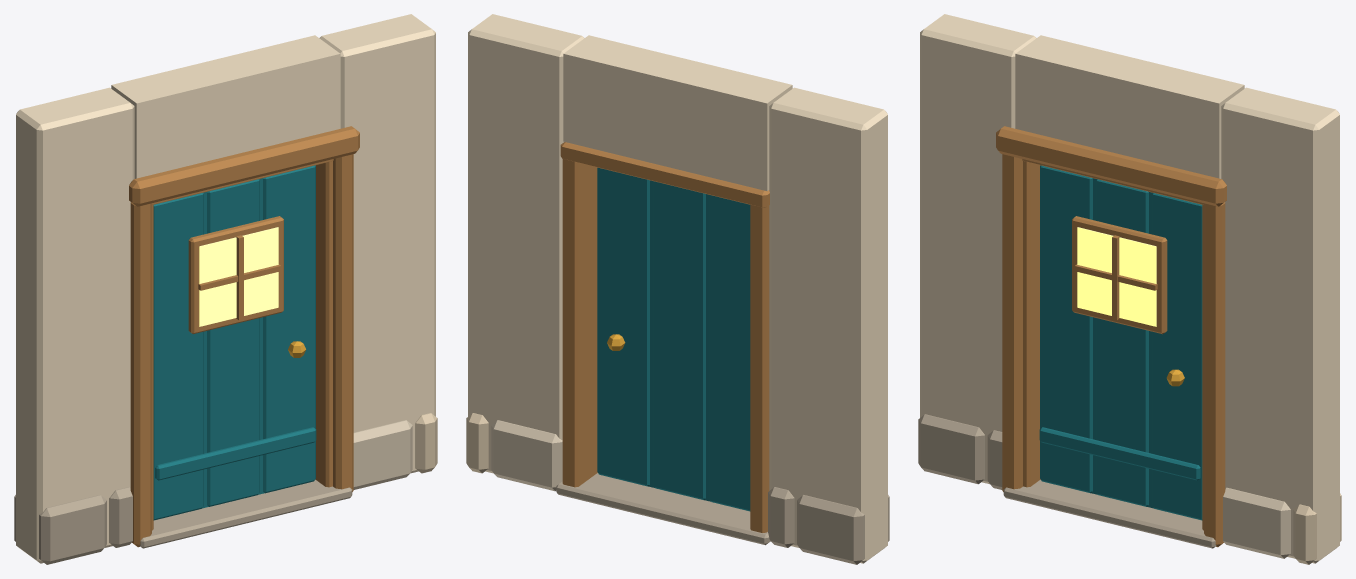
Rendered from wall_door.glb.
The picture shows the model from 3 angles, left to right: view 1: azimuth 30°, elevation 25°; view 2: azimuth 150°, elevation 25°; view 3: azimuth 330°, elevation 25°; orthographic projection.
Parts seen in each view (by area): view 1: wall_door, part_door_leaf; view 2: wall_door, part_door_leaf; view 3: wall_door, part_door_leaf.
Boxes of the visible parts, left/top/right/bottom form: wall_door: left=14, top=14, right=437, bottom=564; part_door_leaf: left=153, top=165, right=316, bottom=520; wall_door: left=466, top=14, right=889, bottom=564; part_door_leaf: left=597, top=167, right=750, bottom=511; wall_door: left=918, top=14, right=1341, bottom=564; part_door_leaf: left=1039, top=165, right=1202, bottom=520.
Size of the model in its own units: 2 by 2.1 by 0.35.
